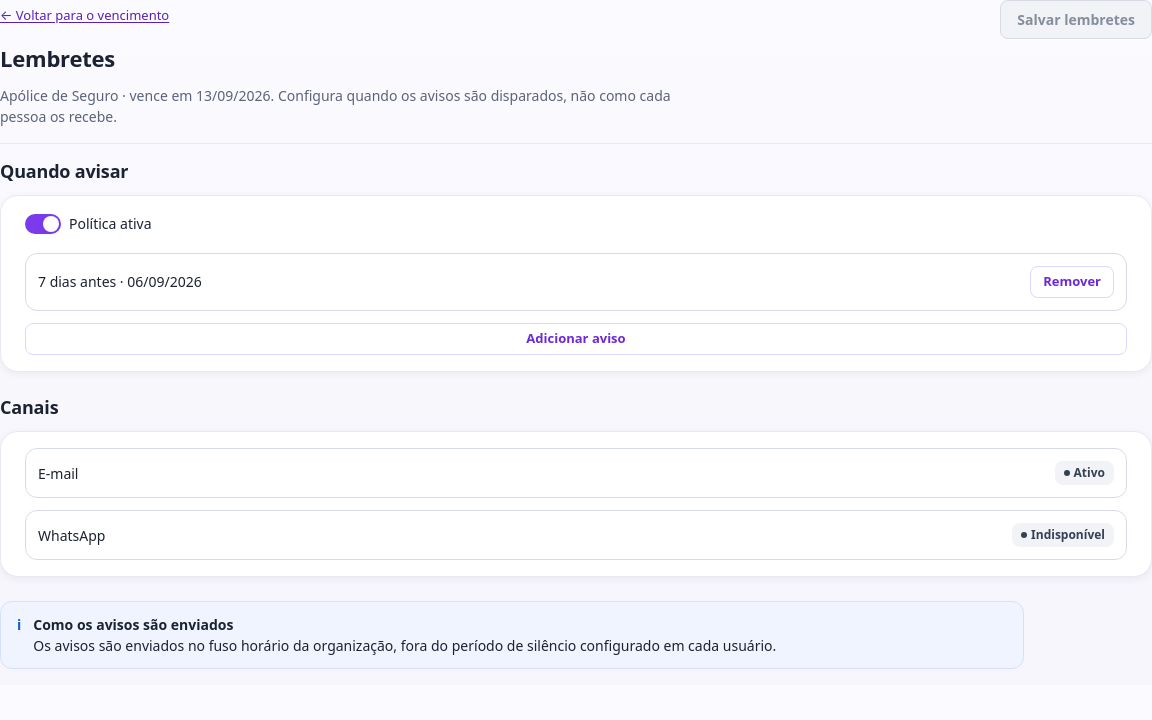
Test: ItemReminderPolicy (A06) › a scheduler-dependency-unavailable save (503) shows the degraded-but-saved warning, not a generic failure
expect the text "7 dias antes · 06/09/2026" is shown: met, box [38,272,202,292]
Step 1. Click the switch → (88, 224), box [25,212,152,236]
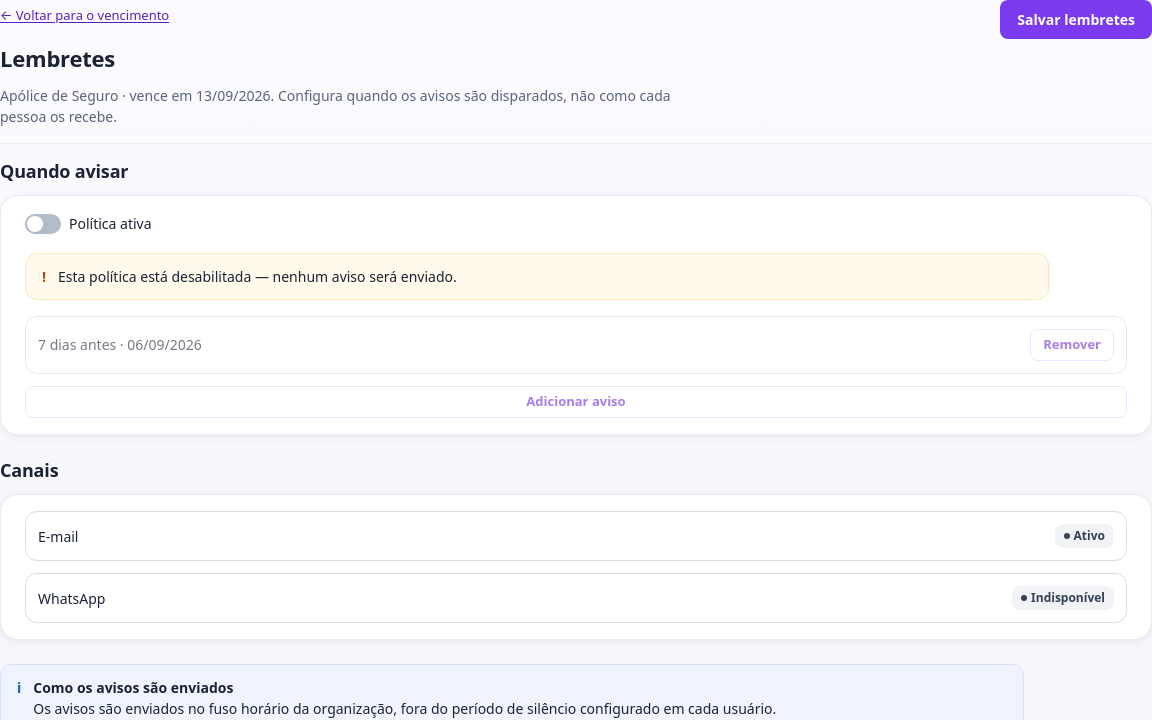
Step 2. Click the button "Salvar lembretes" → (1076, 20), box [1000,0,1151,39]
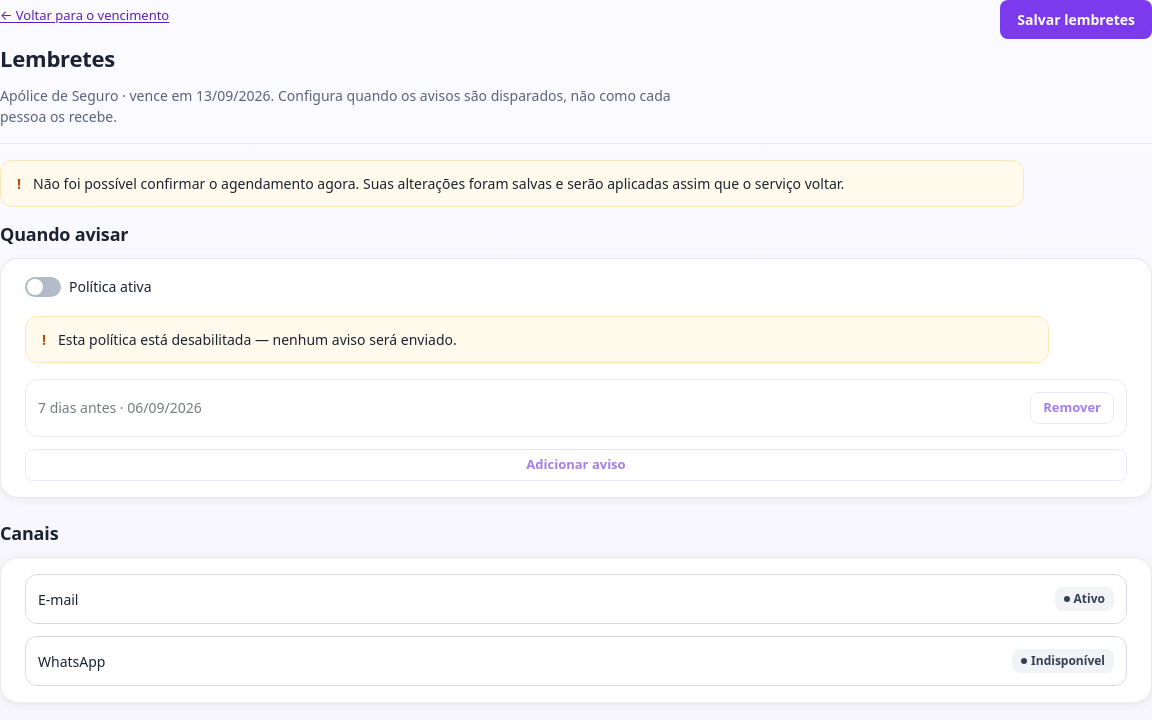
expect the text "Não foi possível confirmar o agendamento agora. Suas alterações foram salvas e serão aplicadas assim que o serviço volta" is shown: met, box [33,174,844,193]
